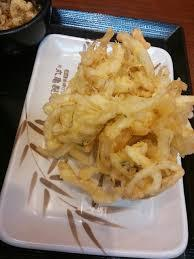kakiage: (60, 38, 194, 200)
